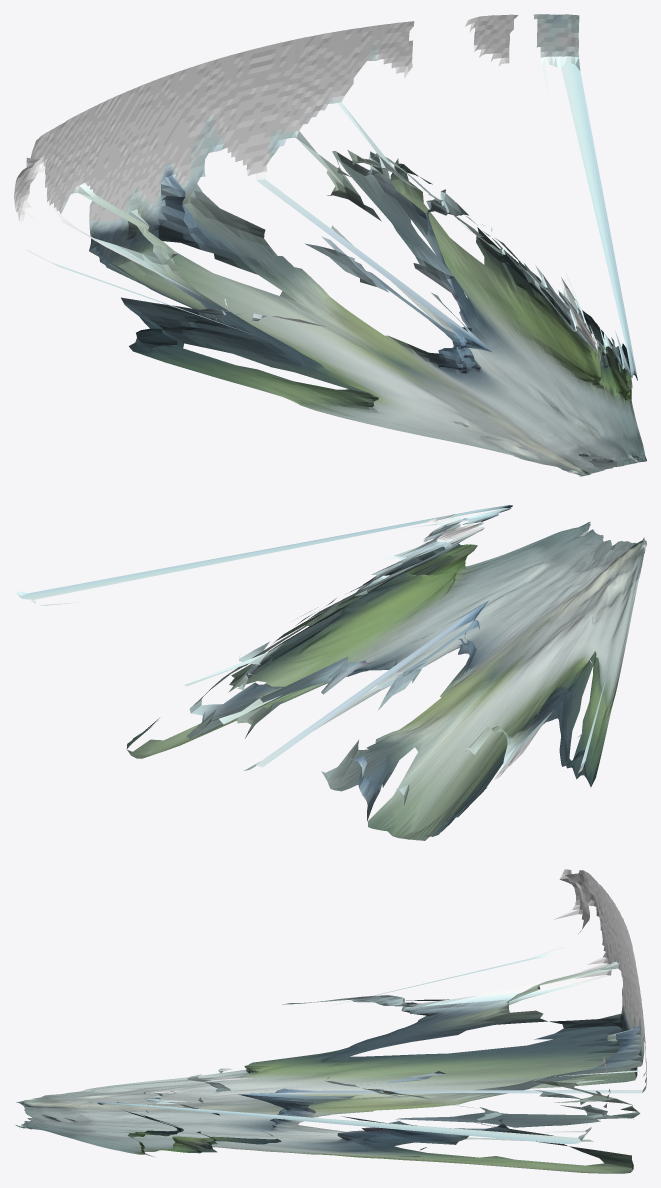
3 views of the same model, one above another, from view 1: azimuth 30°, elevation 25°; view 2: azimuth 150°, elevation 25°; view 3: azimuth 270°, elevation 25° (orthographic). The views are drawn at different scales.
Visible parts, largest first — view 1: defaultobject; view 2: defaultobject; view 3: defaultobject.
Boxes of the visible parts, bbox=[...] form: defaultobject: bbox=[14, 14, 646, 476]; defaultobject: bbox=[15, 505, 646, 840]; defaultobject: bbox=[15, 869, 646, 1173].
Size of the model in its own units: 40.73 by 14.73 by 45.14.
Materials: 1 (1 with a texture image).
